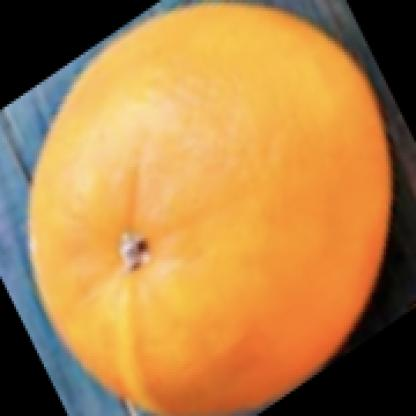fresh: (29, 2, 393, 416)
